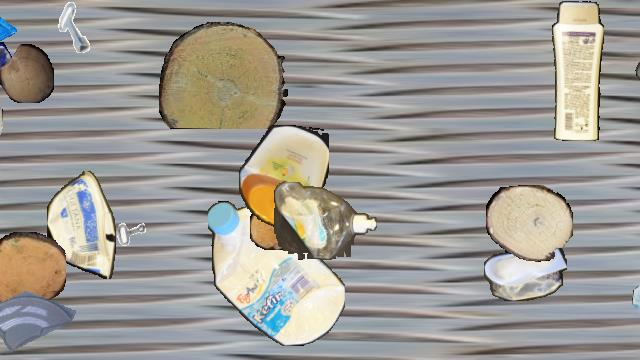glass: (0, 273, 75, 359), (0, 1, 17, 67), (0, 42, 16, 108), (631, 273, 640, 359)
metal: (97, 193, 155, 251), (50, 1, 102, 53)
plastic: (208, 200, 344, 346), (239, 125, 329, 227), (274, 182, 376, 260), (549, 1, 603, 141), (47, 171, 115, 279), (484, 240, 566, 300), (634, 1, 640, 101)
wood: (159, 22, 287, 128), (486, 185, 572, 261), (0, 232, 66, 310), (0, 44, 54, 102), (250, 204, 294, 250), (0, 89, 2, 159)
